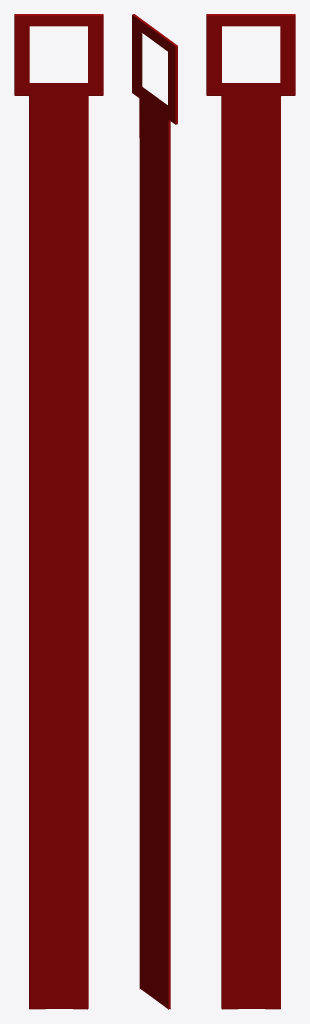
The model's file is Item_belt_Tray_Sec.fbx.
3 views of the same model, side by side, from view 1: azimuth 90°, elevation 25°; view 2: azimuth 210°, elevation 25°; view 3: azimuth 270°, elevation 25° (orthographic). The views are drawn at different scales.
Visible parts, largest first — view 1: pCube32; view 2: pCube32; view 3: pCube32.
Part boxes in pixels (x1,y1,x2,y2): pCube32: (14,14,103,1009); pCube32: (132,14,177,1009); pCube32: (206,14,295,1009).
Size of the model in its own units: 0.1562 by 49.74 by 4.05.
